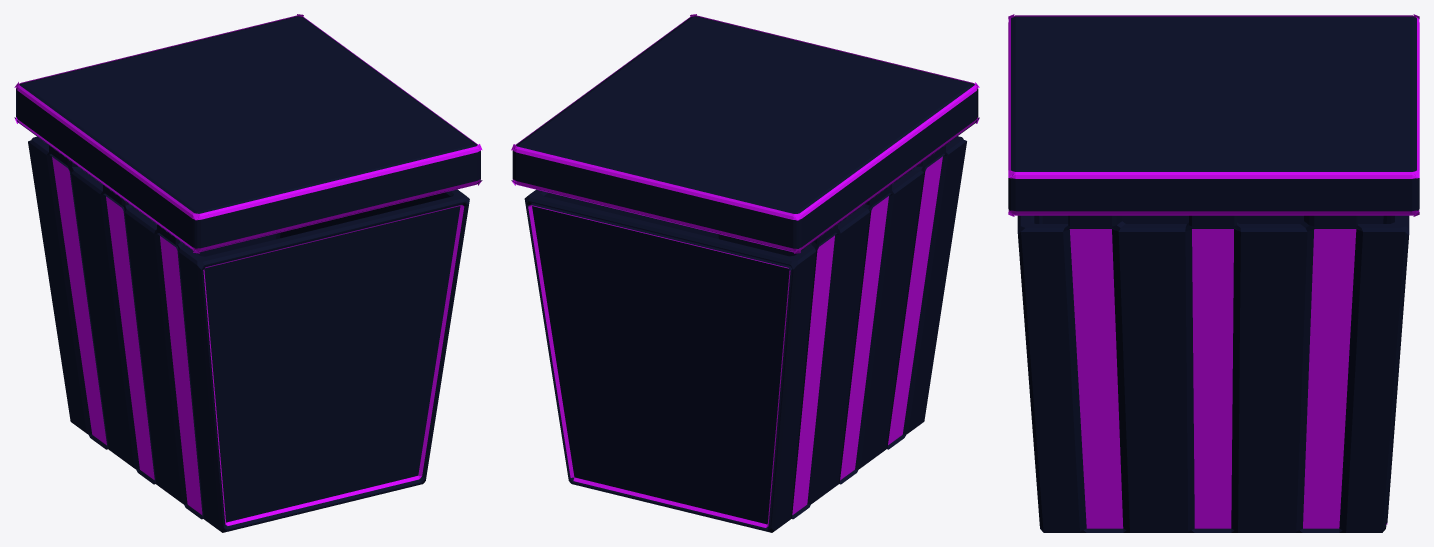
File: rubish bin.fbx
3 views of the same model, side by side, from view 1: azimuth 30°, elevation 25°; view 2: azimuth 150°, elevation 25°; view 3: azimuth 270°, elevation 25° (orthographic). The views are drawn at different scales.
Visible parts, largest first — view 1: Cube; view 2: Cube; view 3: Cube.
Boxes of the visible parts, x1,y1,x2,y2 form: Cube: [14, 14, 482, 532]; Cube: [511, 14, 979, 532]; Cube: [1008, 14, 1419, 532].
Bounding box in the file's own units: 398 × 449 × 436.
